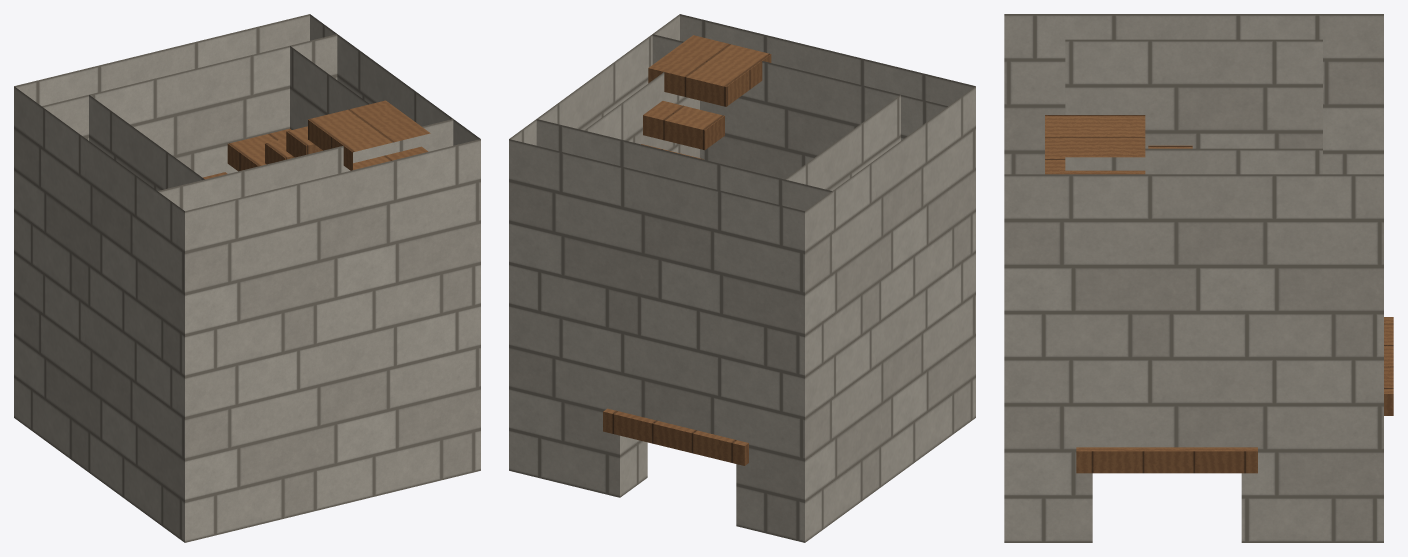
File: Tower_DoorTop_Concave.fbx
3 renders of one model, left to right at view 1: azimuth 30°, elevation 25°; view 2: azimuth 150°, elevation 25°; view 3: azimuth 270°, elevation 25°, orthographic. The views are drawn at different scales.
Visible parts, largest first — view 1: Tower_DoorTop_Concave; view 2: Tower_DoorTop_Concave; view 3: Tower_DoorTop_Concave.
Part boxes in pixels (bbox=[...]): Tower_DoorTop_Concave: bbox=[14, 14, 480, 542]; Tower_DoorTop_Concave: bbox=[509, 14, 975, 542]; Tower_DoorTop_Concave: bbox=[1004, 14, 1393, 542].
Bounding box in the file's own units: 2.87 × 3 × 2.87.
Materials: 2 (2 with a texture image).
